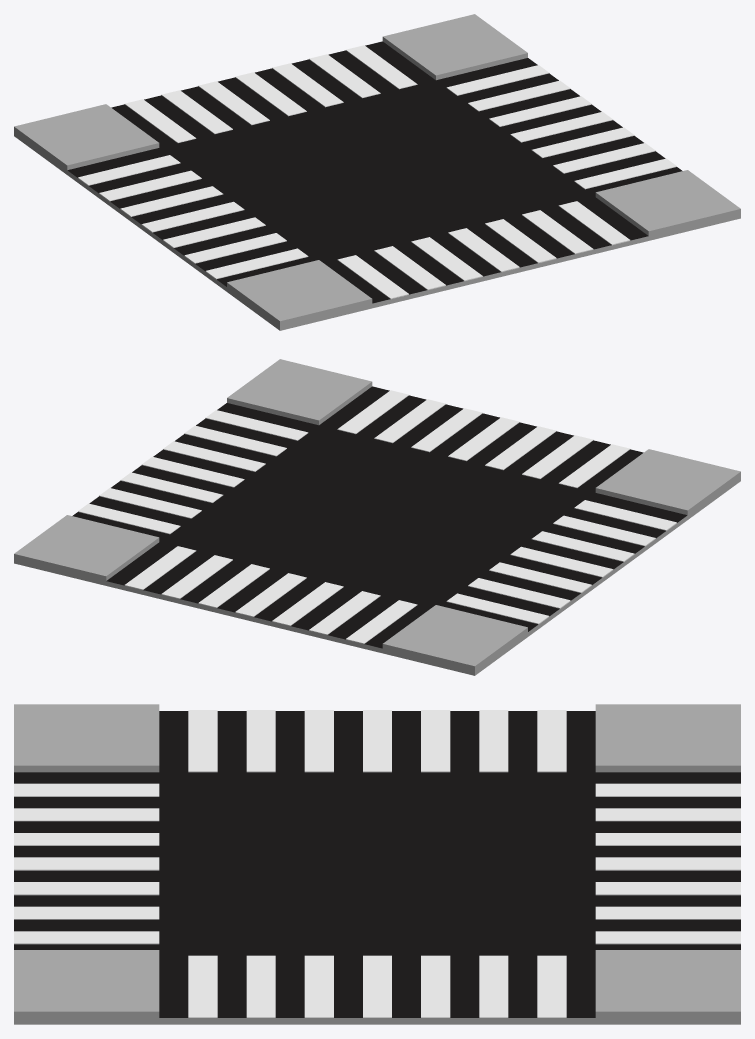
Rendered from Env_Road_Cross_02.fbx.
3 renders of one model, top to bottom at view 1: azimuth 30°, elevation 25°; view 2: azimuth 150°, elevation 25°; view 3: azimuth 270°, elevation 25°, orthographic. The views are drawn at different scales.
Parts seen in each view (by area): view 1: Env_Road_Cross_02; view 2: Env_Road_Cross_02; view 3: Env_Road_Cross_02.
Boxes of the visible parts, x1,y1,x2,y2 form: Env_Road_Cross_02: (14, 14, 740, 330); Env_Road_Cross_02: (14, 359, 740, 675); Env_Road_Cross_02: (14, 704, 740, 1024).
Size of the model in its own units: 1000 by 20 by 1000.
